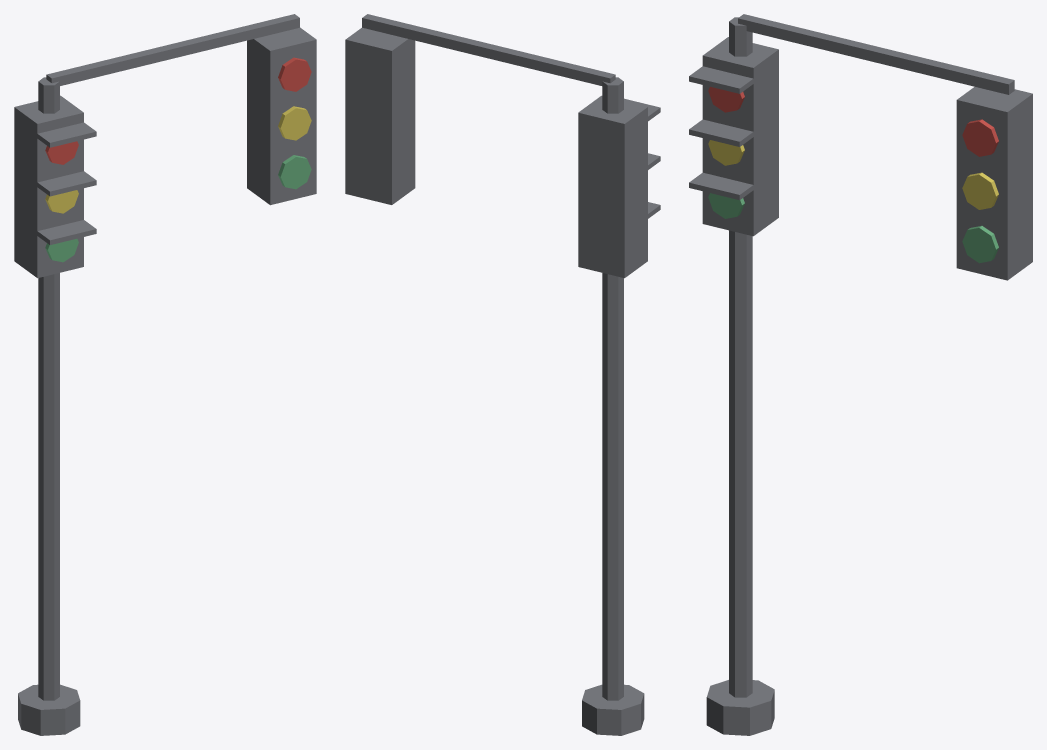
The model's file is Trafik_Isigi.glb.
The picture shows the model from 3 angles, left to right: view 1: azimuth 30°, elevation 25°; view 2: azimuth 150°, elevation 25°; view 3: azimuth 330°, elevation 25°; orthographic projection. The views are drawn at different scales.
Parts seen in each view (by area): view 1: Trafik_Isigi; view 2: Trafik_Isigi; view 3: Trafik_Isigi.
Part boxes in pixels (<box>): Trafik_Isigi: <box>14,14,316,735</box>; Trafik_Isigi: <box>345,14,660,735</box>; Trafik_Isigi: <box>689,14,1032,735</box>.
Size of the model in its own units: 1.83 by 3.98 by 0.45.
